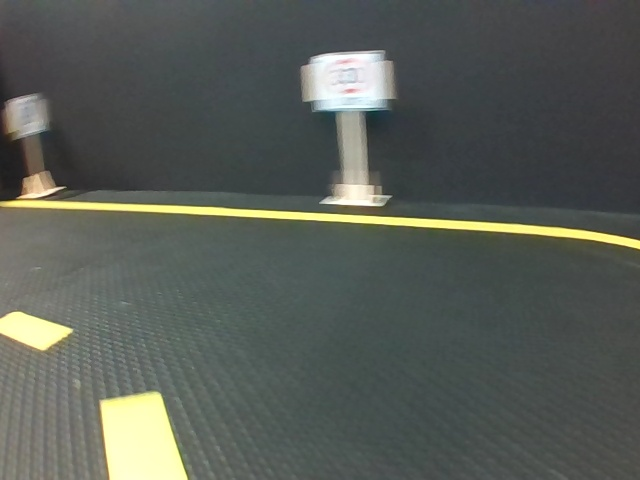30: (314, 53, 382, 109)
no30: (6, 98, 47, 134)
